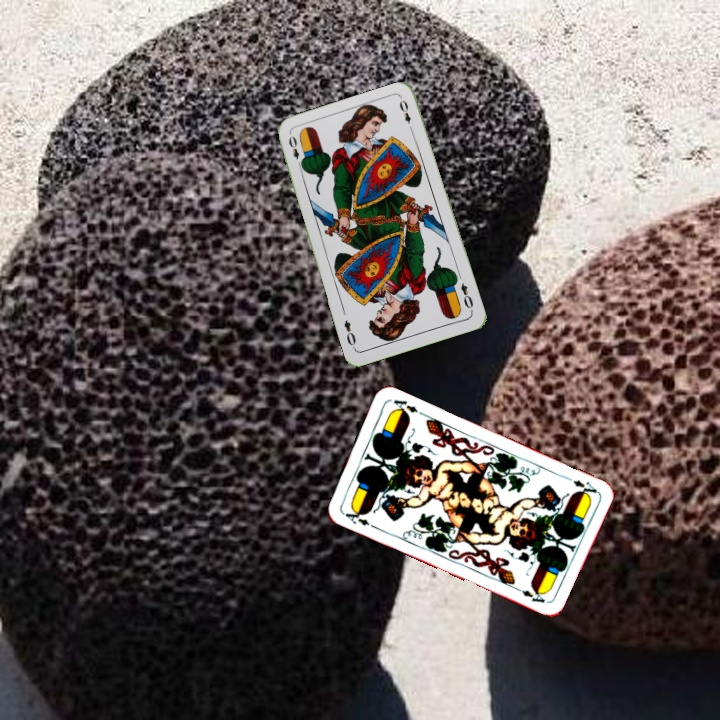EA: (338, 504, 377, 530), (569, 476, 599, 499)
EO: (284, 132, 305, 171), (456, 279, 476, 311)
